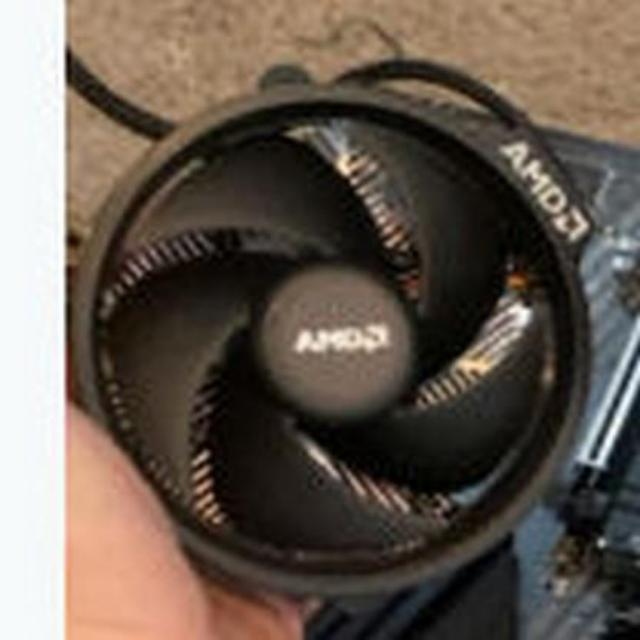CPU_Fan: (74, 80, 586, 588)
